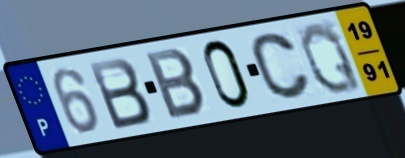0: (201, 37, 254, 112)
6: (50, 65, 102, 136)
B: (85, 55, 153, 132), (142, 46, 210, 122)
C: (249, 31, 315, 103)
Q: (297, 20, 366, 96)
